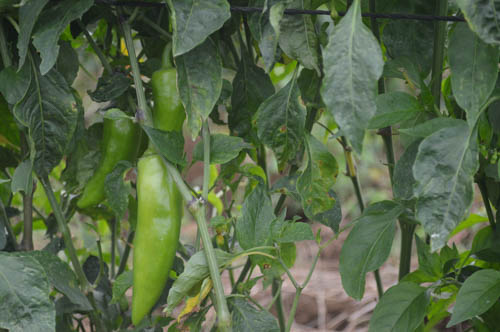ChiliPepper: (129, 158, 184, 332), (71, 116, 137, 218), (148, 69, 188, 145)
